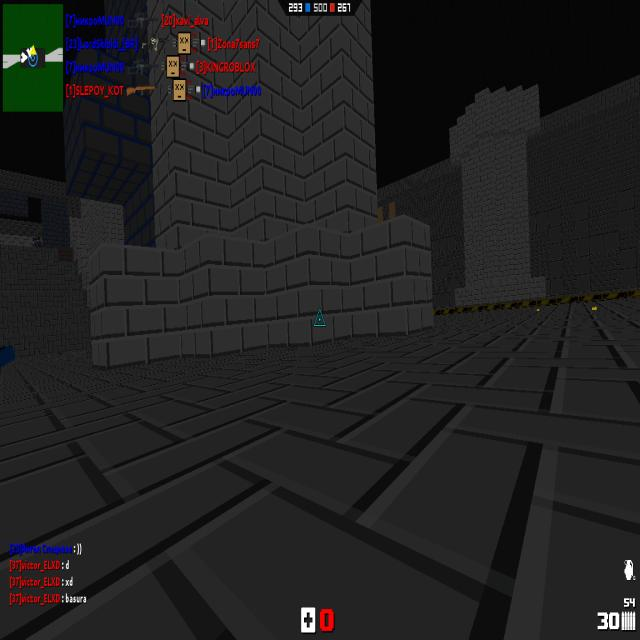enemy: (32, 234, 42, 248)
